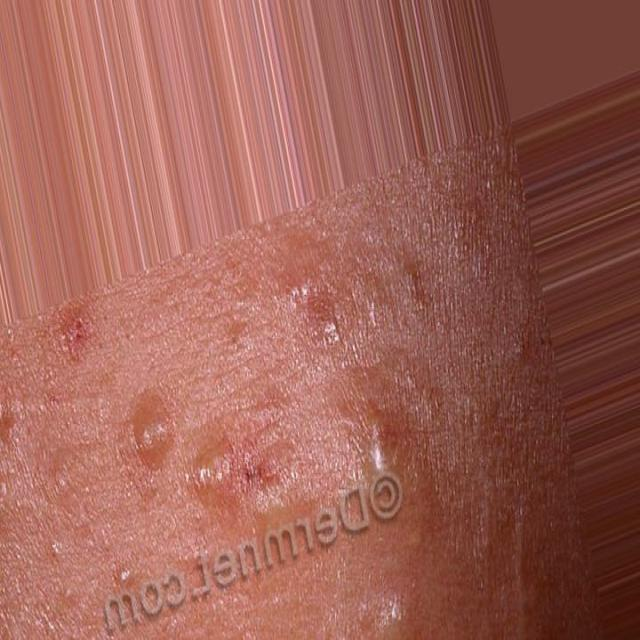acne: (190, 431, 282, 547), (360, 418, 442, 526), (279, 279, 345, 369), (119, 374, 172, 472), (39, 311, 95, 373)
